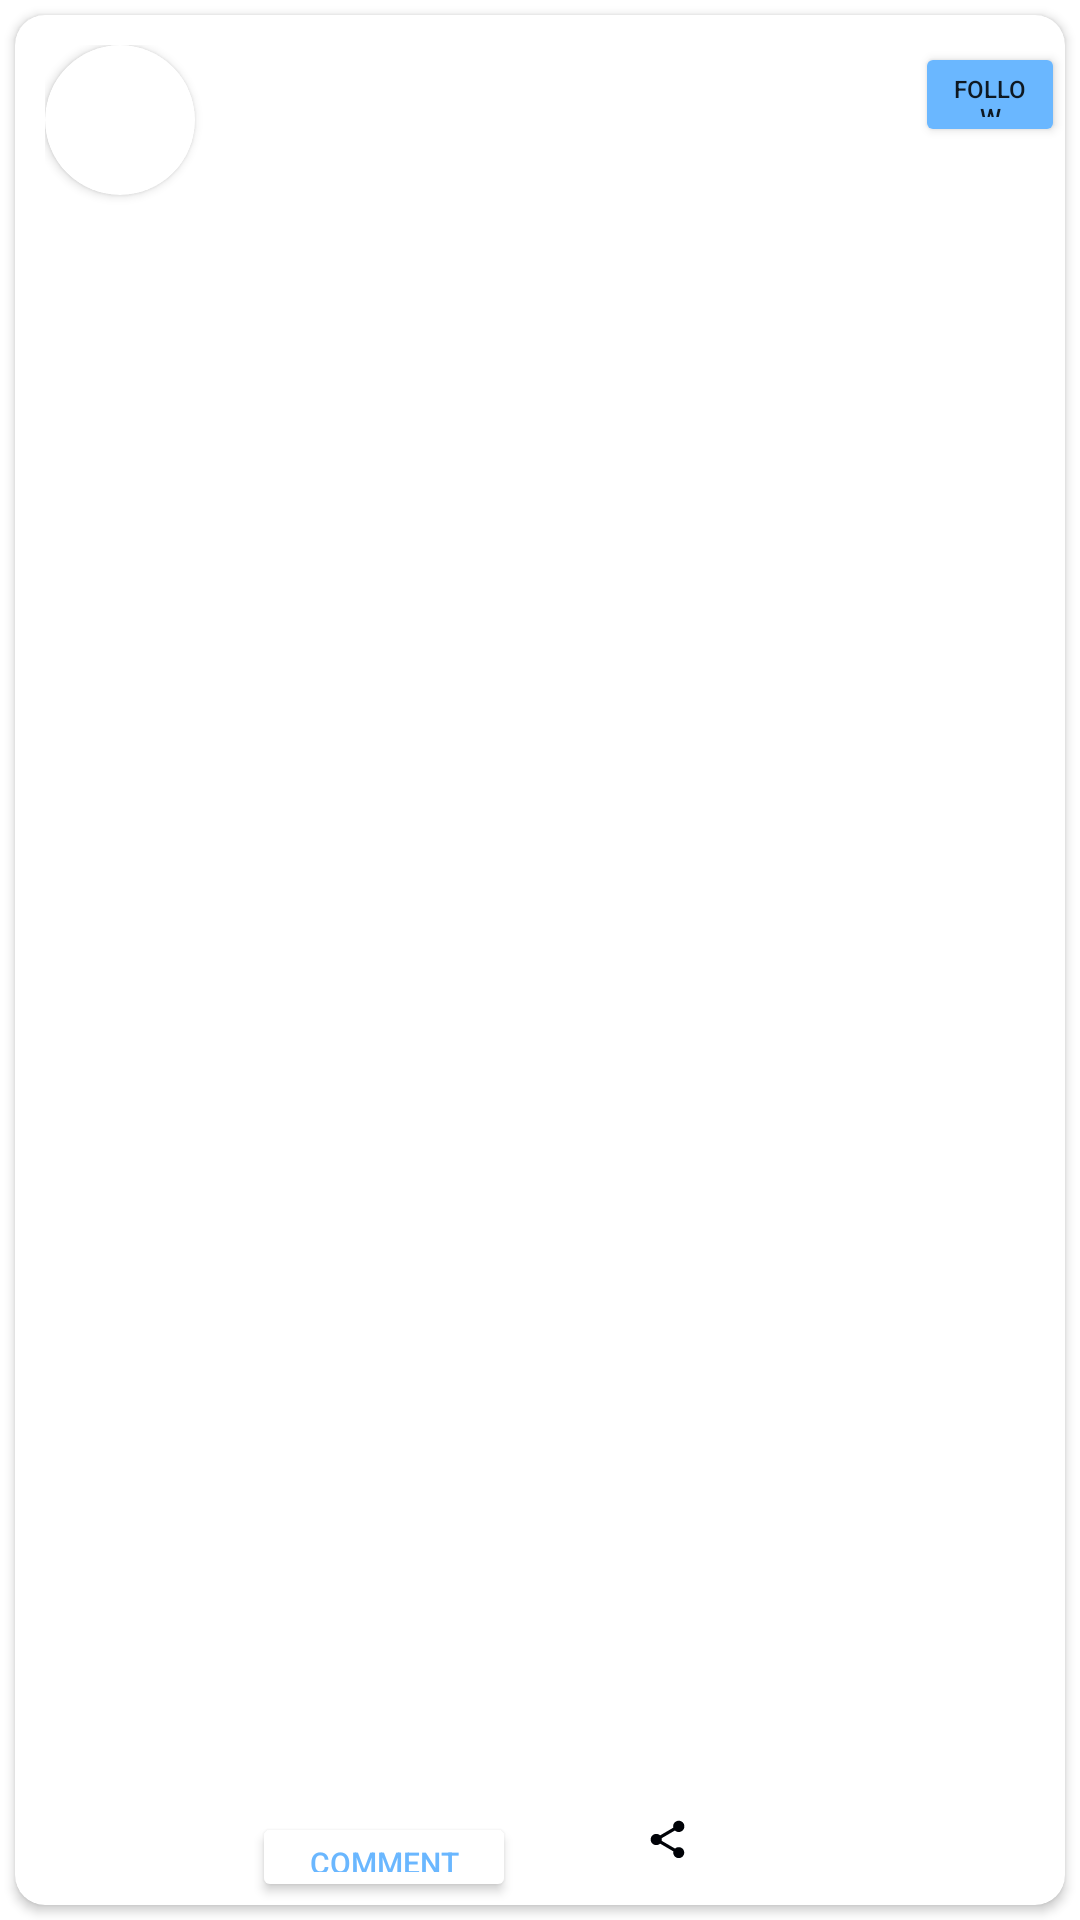

Icon click points for this 1080px×1920px phone screenshot, format (x,y):
share: (667,1839)
